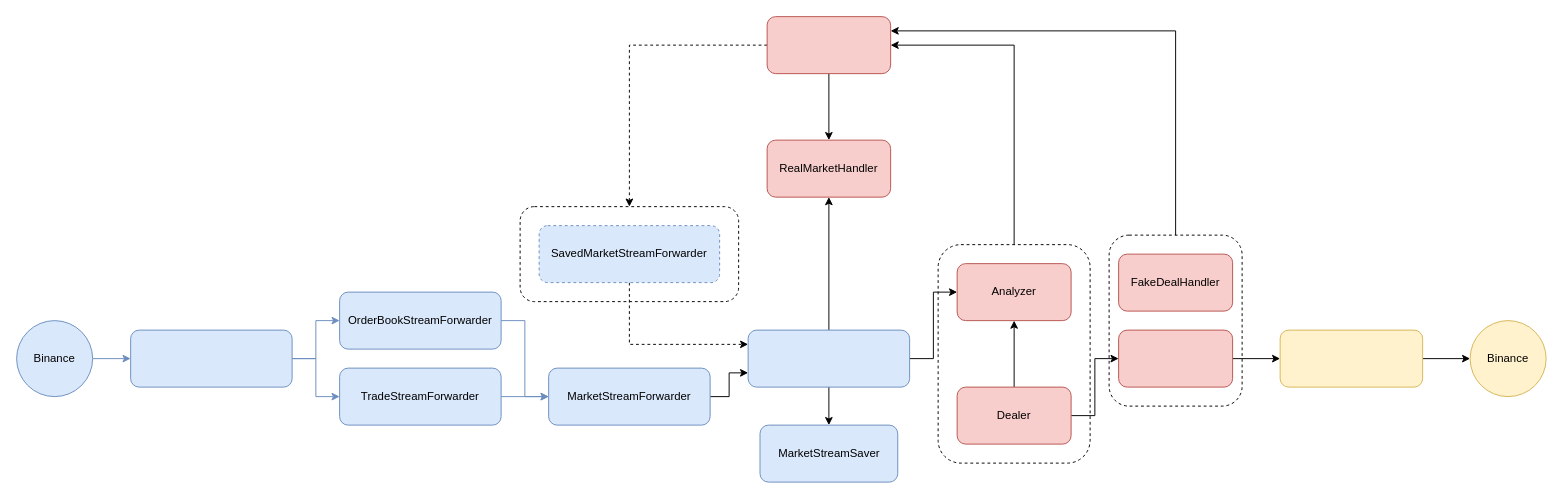
Some shapes in this 1563 by 499 pixel diagram are drawn without their labels. Here are the shapes that lost their labels. From the top down, the centre of each, then its label:
At (x=828, y=45): "BenchmarkManager".
At (x=211, y=358): "BinAPIDataStreamEndpoint".
At (x=828, y=358): "MarketStreamEventLoop".
At (x=1175, y=358): "DealHandler".
At (x=1351, y=358): "BinAPIAccountEndpoint".
